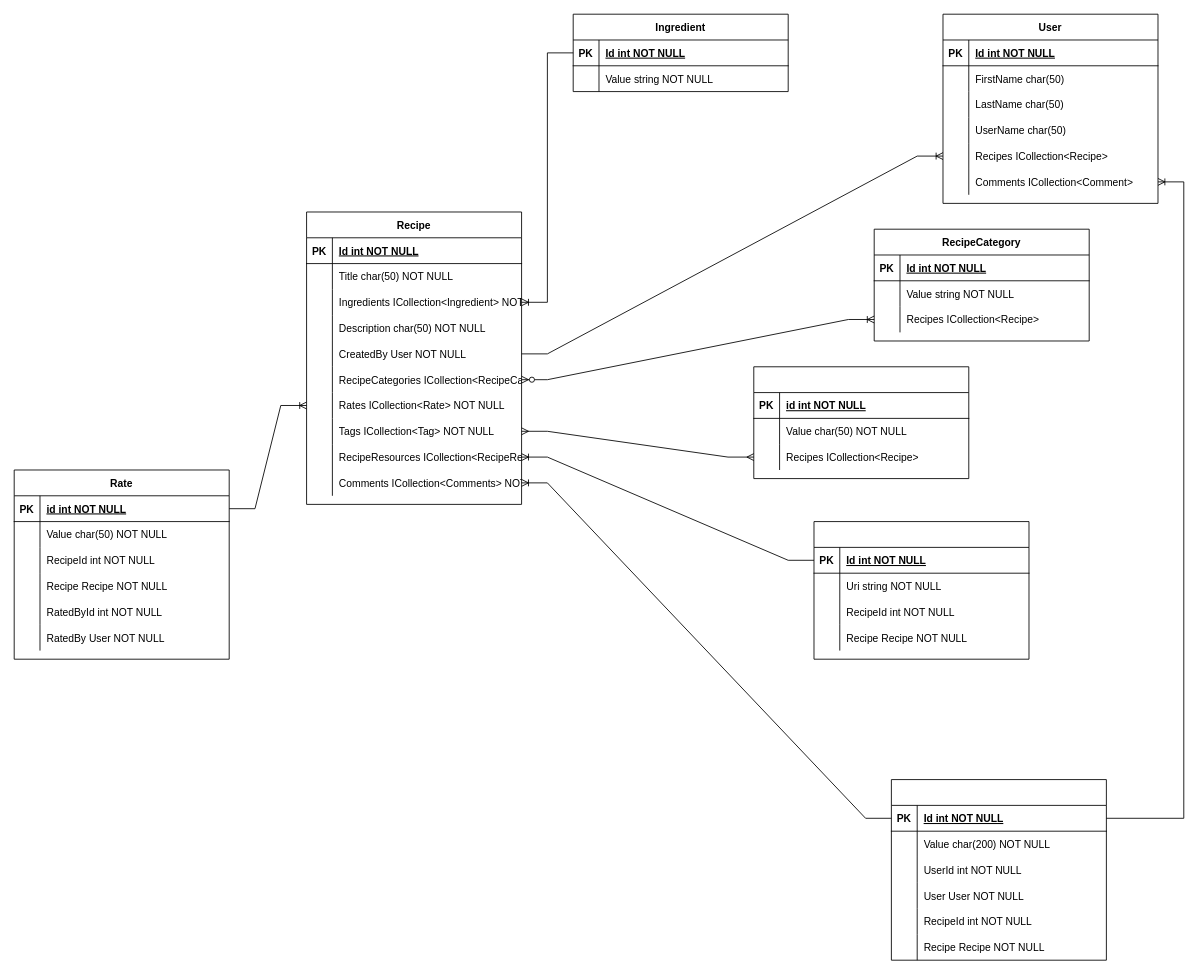
The diagram is 1198 pixels wide and 974 high, and some of its shapes have lost their labels. The box of each missing label's shape, as (x1, y1, x2, y2) in pixels:
Comment: (891, 779, 1106, 960)
RecipeResource: (813, 521, 1029, 659)
Tag: (753, 366, 969, 479)
